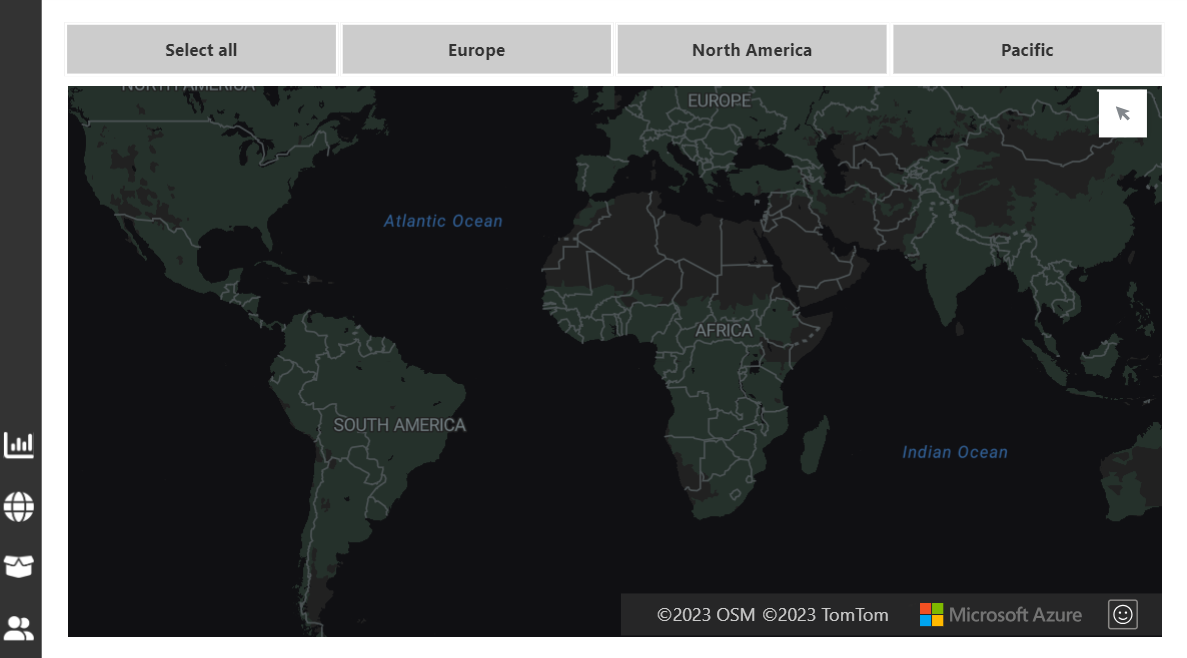

What the dashboard file says about the page in this screenshot:
{"tool":"powerbi","page":{"name":"Map","canvas":[1280,720],"ordinal":1},"visuals":[{"type":"azureMap","fields":{"Category":["Territory Lookup.Country"],"Size":["Measure Table.Total Orders"]},"box":[68,96,1190,604],"z":0},{"type":"shape","title":"Left Nav Bacground","box":[0,0,45,720],"z":1000},{"type":"actionButton","box":[0,467.6,45.3,40.4],"z":1000,"group":"g1"},{"type":"slicer","fields":{"Values":["Territory Lookup.Continent"]},"box":[44,24,1236,72],"z":2000},{"type":"actionButton","box":[0,533.9,45.3,40.4],"z":2000,"group":"g1"},{"type":"actionButton","box":[0,598.7,45.3,40.4],"z":3000,"group":"g1"},{"type":"group","id":"g1","title":"Navigation Buttons","box":[0,467.6,45.3,237.8],"z":3000},{"type":"actionButton","box":[0,665,45.3,40.4],"z":4000,"group":"g1"}]}

Visuals, with their boxes on the page's 1280x720 design canvas (x1, y1, x2, y2). These are canvas units, not pixel positions in the 1187x658 screenshot, which may show the page scaled, cropped or inside an application window:
azureMap - Territory Lookup.Country x Measure Table.Total Orders: detection(68, 96, 1258, 700)
"Left Nav Bacground" shape: detection(0, 0, 45, 720)
actionButton: detection(0, 468, 45, 508)
slicer - Territory Lookup.Continent: detection(44, 24, 1280, 96)
actionButton: detection(0, 534, 45, 574)
actionButton: detection(0, 599, 45, 639)
"Navigation Buttons" group: detection(0, 468, 45, 705)
actionButton: detection(0, 665, 45, 705)
